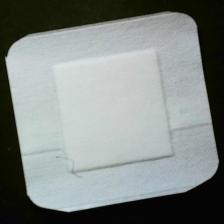Dressing: (5, 11, 221, 217)
F_Body: (53, 143, 88, 187)
